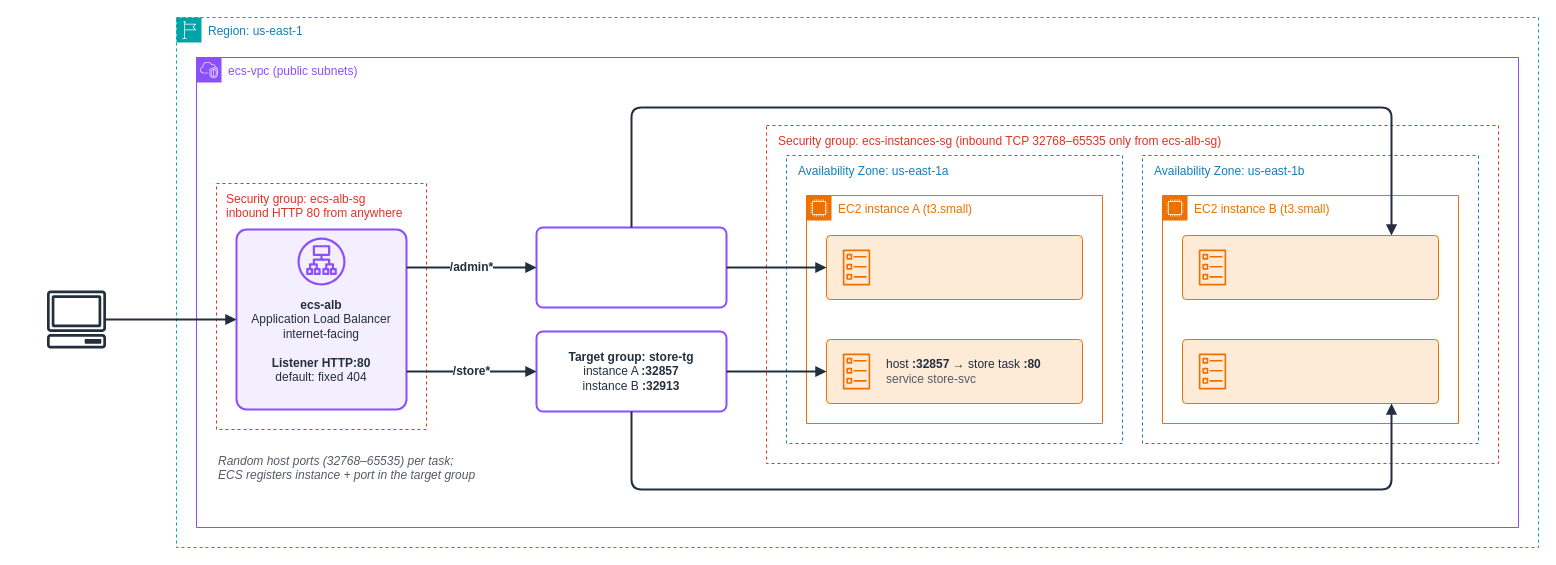
Some shapes in this 1556 by 565 pixel diagram are drawn without their labels. The shapes that lost their labels are listed below. From the top down, each one's box as (x1, y1, x2, y2) in pixels, then its label:
(535, 226, 727, 308): Target group: admin-tg instance A :32789 instance B :32867
(826, 234, 1082, 300): host :32789 → admin task :80 service admin-svc
(1182, 234, 1438, 300): host :32867 → admin task :80 service admin-svc
(46, 290, 106, 348): Browser (www) http://<alb-dns>/admin http://<alb-dns>/store
(1182, 338, 1438, 404): host :32913 → store task :80 service store-svc
